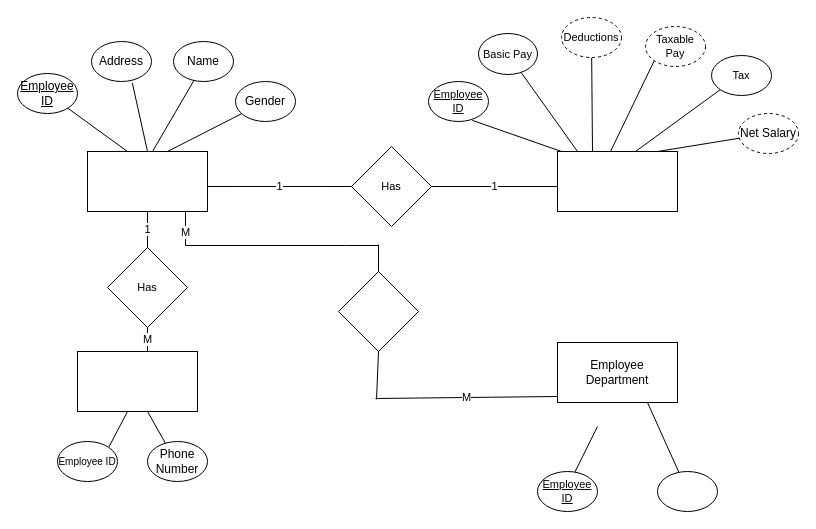
Some shapes in this 816 by 529 pixel diagram are drawn without their labels. The centre of each missing label's shape, as x and y in pixels:
"Department Name" goes at point 687,491.
"Employee" goes at point 147,181.
"Is In" goes at point 378,311.
"Payroll" goes at point 617,181.
"Phone" goes at point 137,381.
